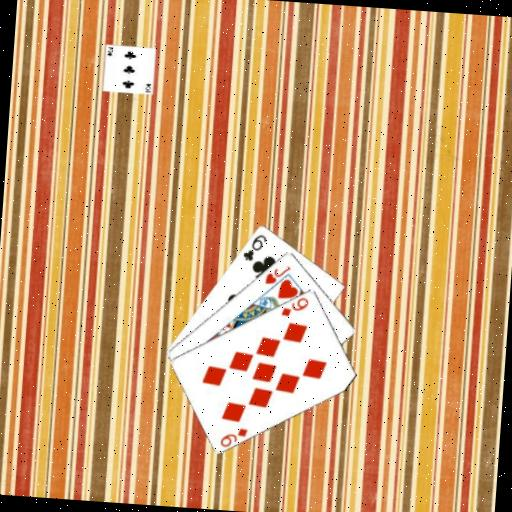6C: (239, 231, 268, 264)
9D: (278, 293, 310, 319), (217, 424, 249, 450)
JH: (262, 261, 293, 287)
